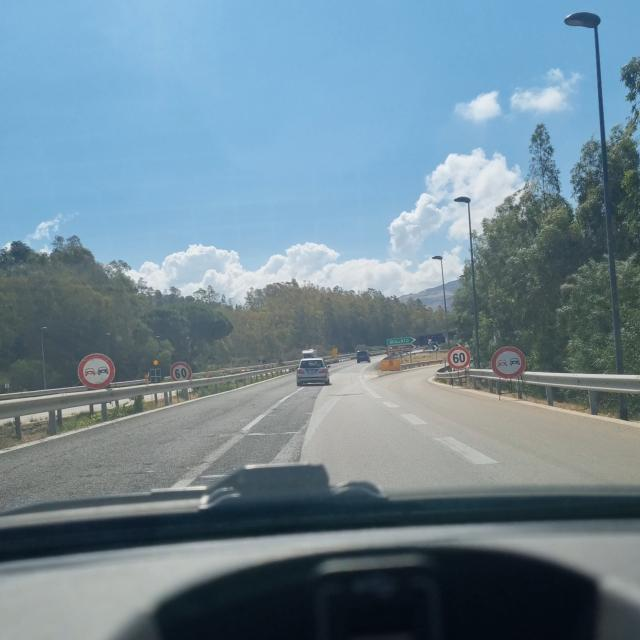forb_overtake: (77, 353, 116, 391), (491, 346, 527, 380)
forb_speed_over_60: (447, 346, 470, 371), (170, 361, 192, 382)
